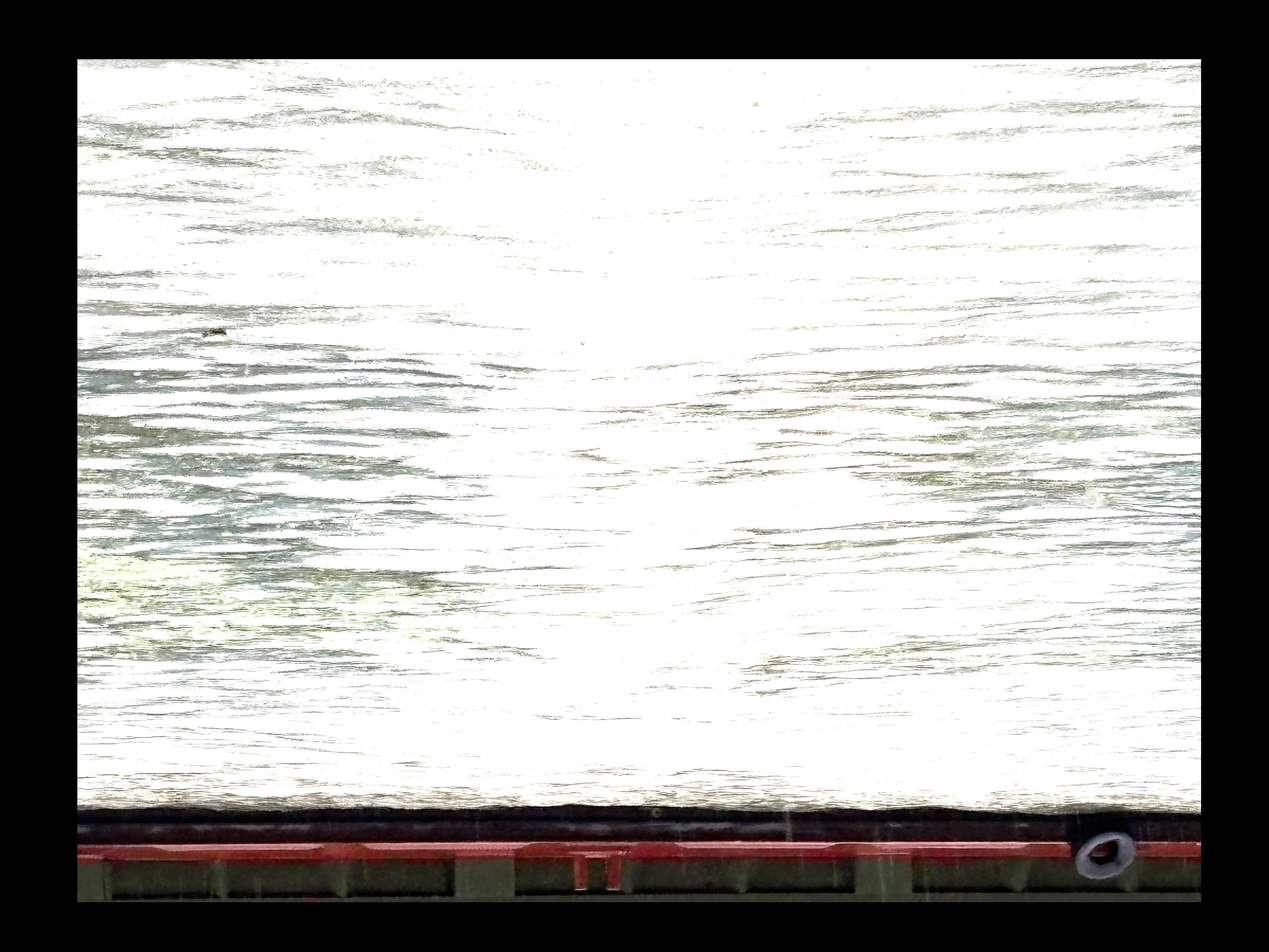Plastic wastes: (778, 425, 849, 455), (198, 323, 230, 351)
